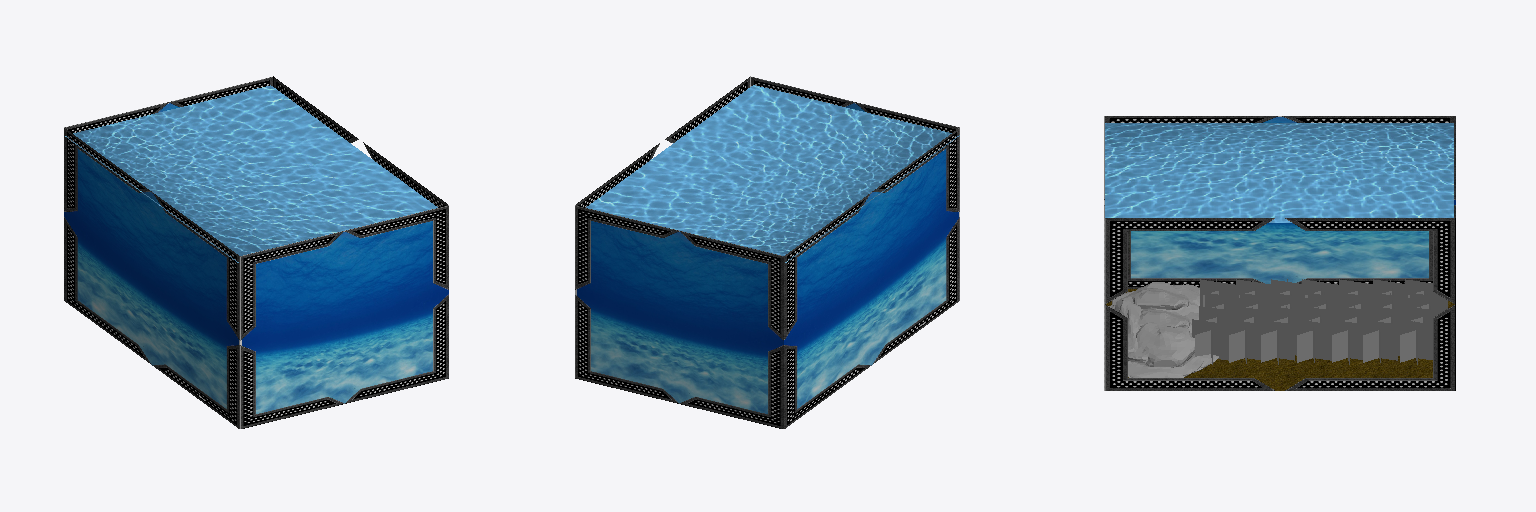
3 views of the same model, side by side, from view 1: azimuth 30°, elevation 25°; view 2: azimuth 150°, elevation 25°; view 3: azimuth 270°, elevation 25° (orthographic).
Parts seen in each view (by area): view 1: Box002; view 2: Box002; view 3: Box002, free_grass002, Rock_001.
Part boxes in pixels (x1,y1,x2,y2): Box002: (64,76,448,428); Box002: (575,76,959,428); Box002: (1104,116,1455,390); free_grass002: (1192,279,1447,364); Rock_001: (1108,282,1218,377).
Size of the model in its own units: 276 by 224 by 399.
Materials: 6 (4 with a texture image).